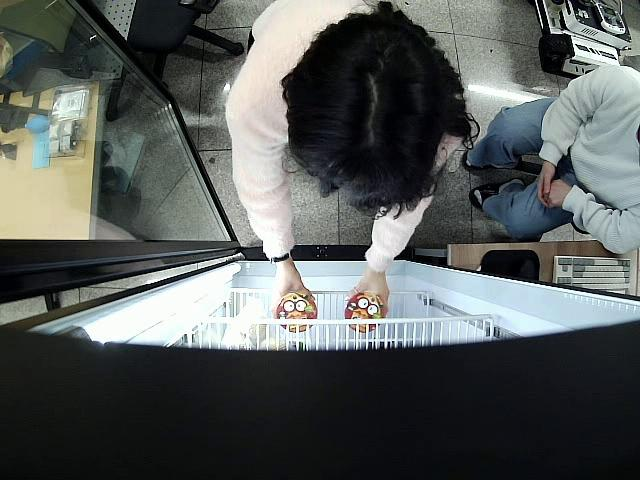00_hand: (343, 271, 390, 318), (273, 269, 315, 321)
06_nuguri_S: (345, 293, 386, 332), (275, 295, 318, 331)
